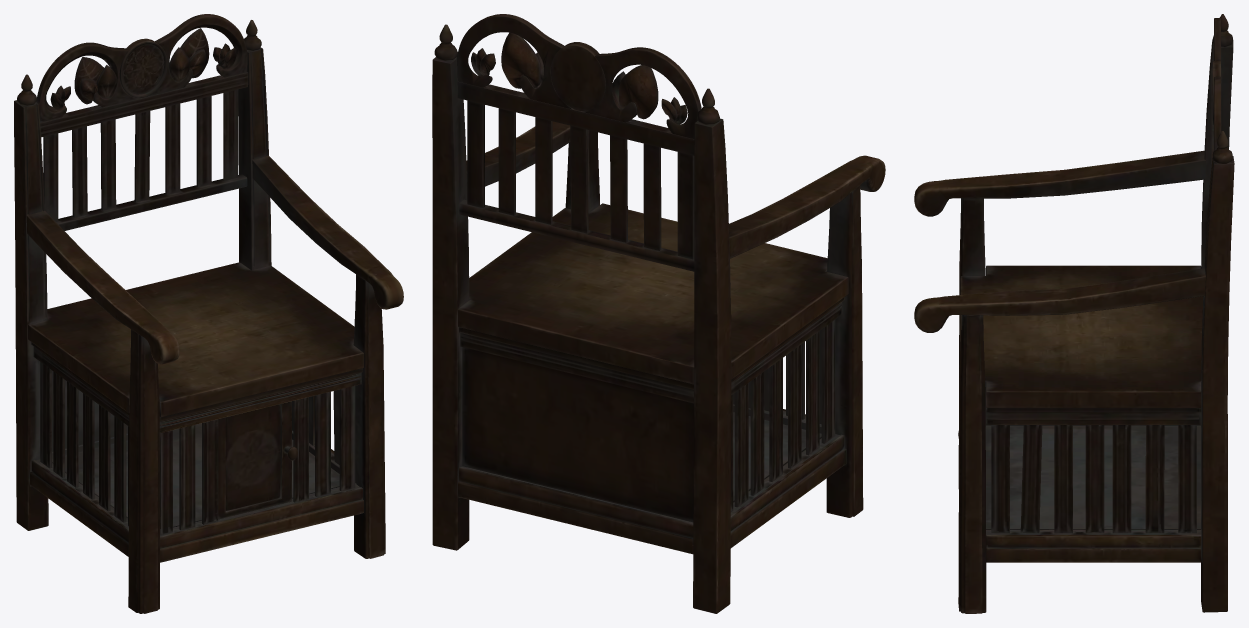
File: gallinera_chair.glb
The picture shows the model from 3 angles, left to right: view 1: azimuth 30°, elevation 25°; view 2: azimuth 150°, elevation 25°; view 3: azimuth 270°, elevation 25°; orthographic projection. The views are drawn at different scales.
Parts seen in each view (by area): view 1: gallinera_chair; view 2: gallinera_chair; view 3: gallinera_chair.
Part boxes in pixels (box(x1,y1,x2,y2)): gallinera_chair: box(14, 14, 403, 613); gallinera_chair: box(432, 14, 885, 613); gallinera_chair: box(914, 14, 1234, 613).
Size of the model in its own units: 0.5808 by 1.03 by 0.6039.
Materials: 1 (1 with a texture image).
